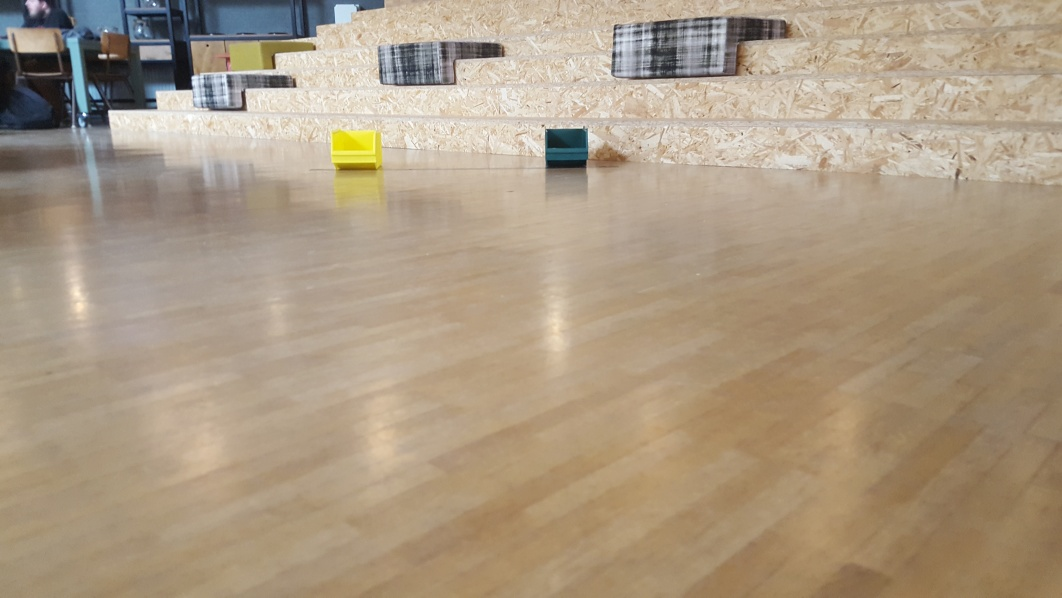tray: (325, 126, 386, 169), (540, 124, 592, 167)
